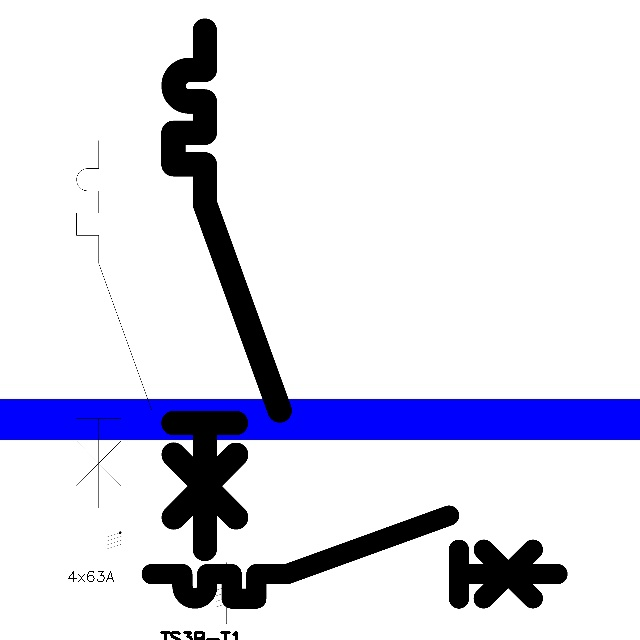interruptor_termomagnetico: (160, 17, 293, 562), (141, 505, 568, 609), (67, 131, 161, 517)
